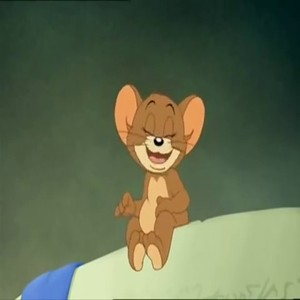Jerry: (108, 80, 206, 277)
